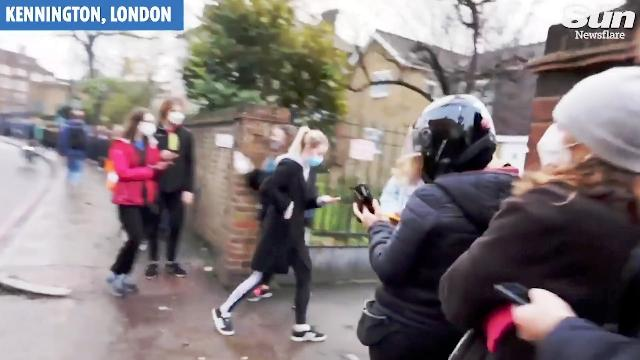berjalan: (204, 126, 336, 346)
